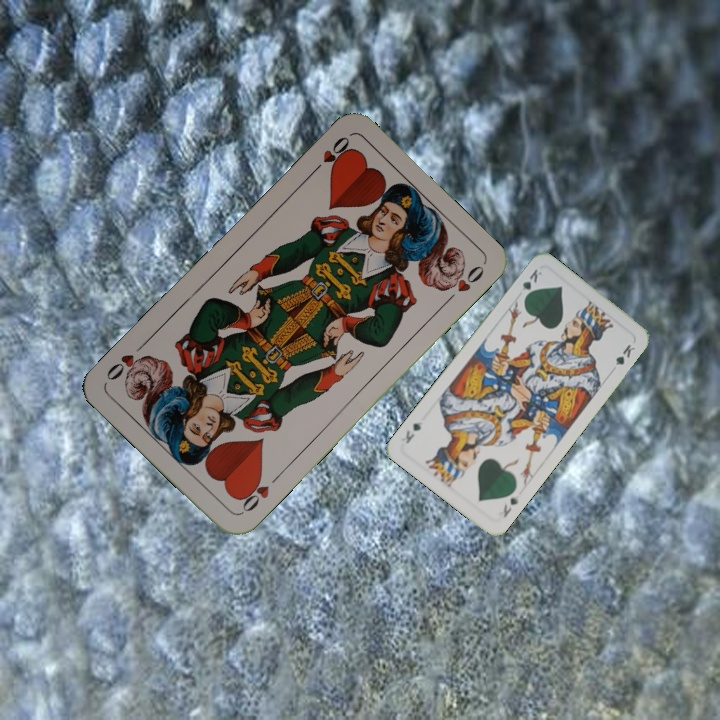GK: (518, 265, 545, 302), (499, 493, 521, 520)
HO: (234, 469, 283, 516), (306, 132, 353, 178)
